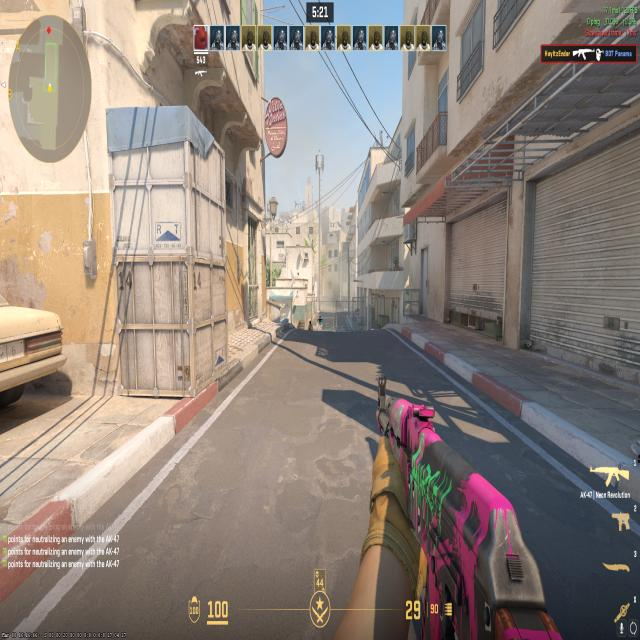t: (306, 316, 314, 330)
